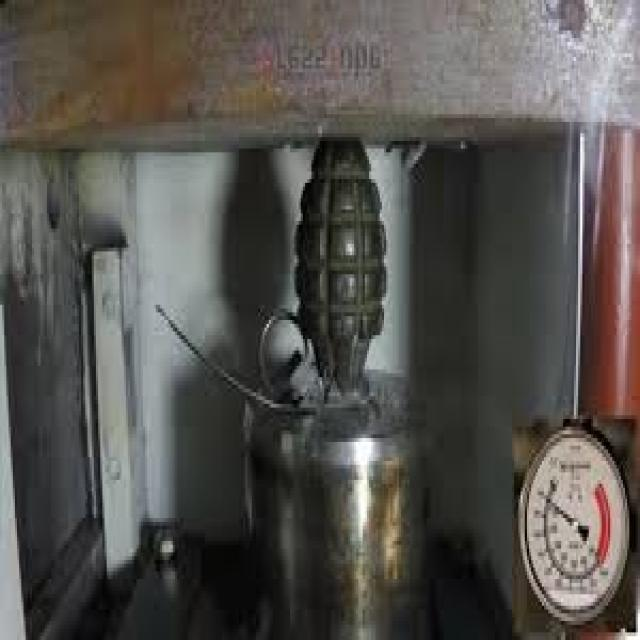grenade: (254, 140, 394, 415)
